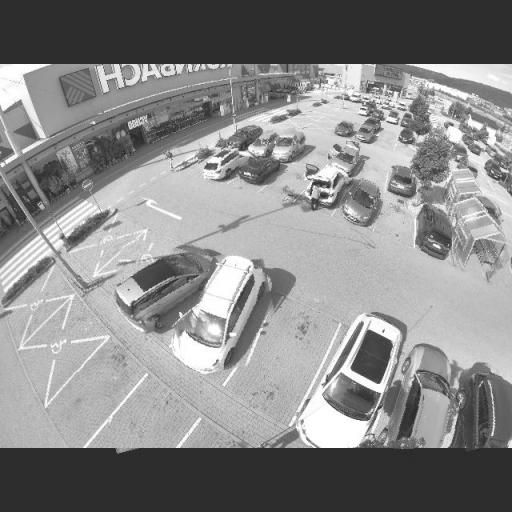busy: (303, 306, 409, 448), (168, 252, 278, 374), (110, 240, 208, 328), (391, 340, 460, 448), (452, 363, 512, 449), (449, 193, 508, 276), (415, 203, 457, 258), (338, 178, 384, 228), (303, 169, 347, 209), (252, 130, 298, 160), (383, 163, 420, 199), (198, 150, 242, 180), (238, 156, 278, 184), (268, 132, 304, 162), (327, 143, 361, 172), (229, 124, 262, 150), (248, 130, 278, 156), (483, 160, 506, 181), (355, 124, 378, 144), (449, 146, 468, 166), (395, 128, 416, 146), (334, 119, 354, 137)
free: (259, 331, 312, 381), (109, 408, 169, 451), (70, 366, 122, 410), (382, 211, 410, 234), (275, 172, 304, 193), (358, 168, 383, 184), (395, 148, 419, 160), (374, 136, 392, 148), (308, 152, 327, 163)
